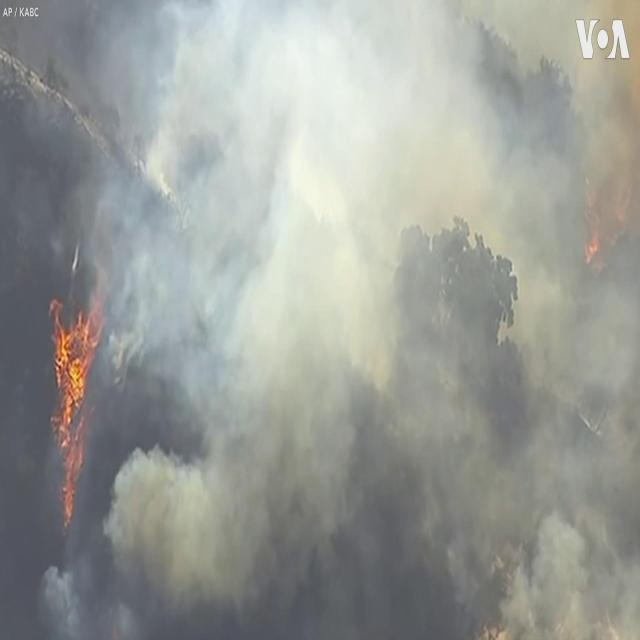Fire: (47, 267, 107, 526)
